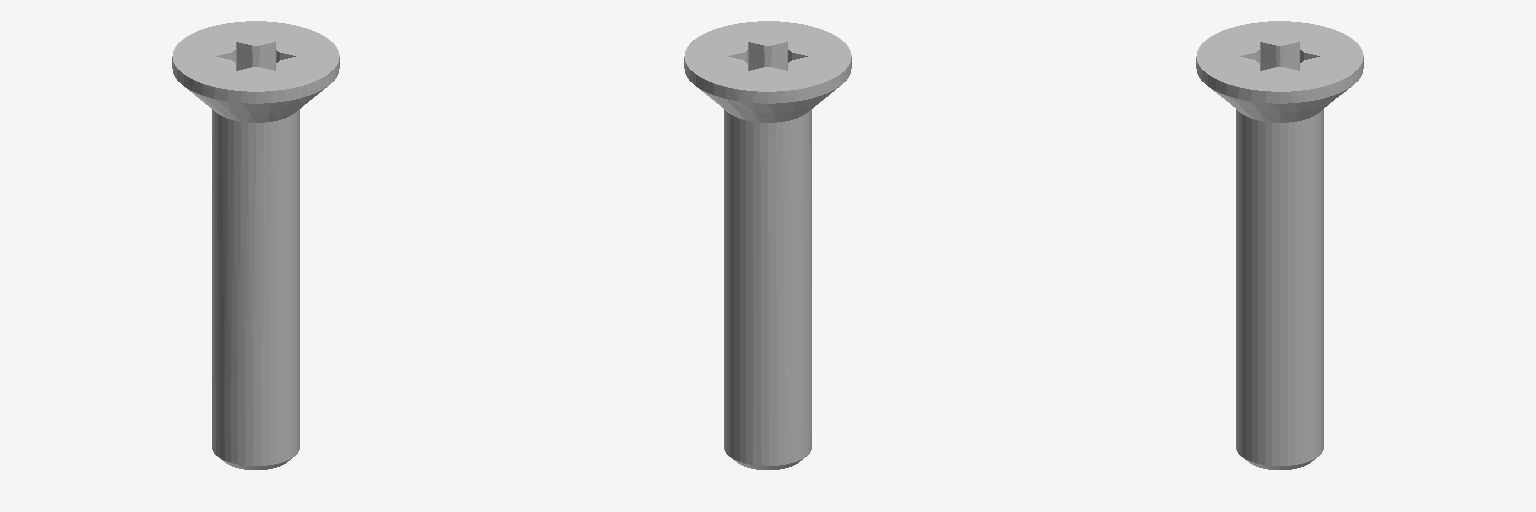
File: Star Bolt.obj
3 views of the same model, side by side, from view 1: azimuth 30°, elevation 25°; view 2: azimuth 150°, elevation 25°; view 3: azimuth 270°, elevation 25° (orthographic).
Visible parts, largest first — view 1: CSK_Torx_ISO14581_BirgerA(M02-10mm); view 2: CSK_Torx_ISO14581_BirgerA(M02-10mm); view 3: CSK_Torx_ISO14581_BirgerA(M02-10mm).
Part boxes in pixels (x1,y1,x2,y2): CSK_Torx_ISO14581_BirgerA(M02-10mm): (172,21,339,469); CSK_Torx_ISO14581_BirgerA(M02-10mm): (684,21,851,469); CSK_Torx_ISO14581_BirgerA(M02-10mm): (1196,21,1363,469).
Bounding box in the file's own units: 3.8 × 10 × 3.8.